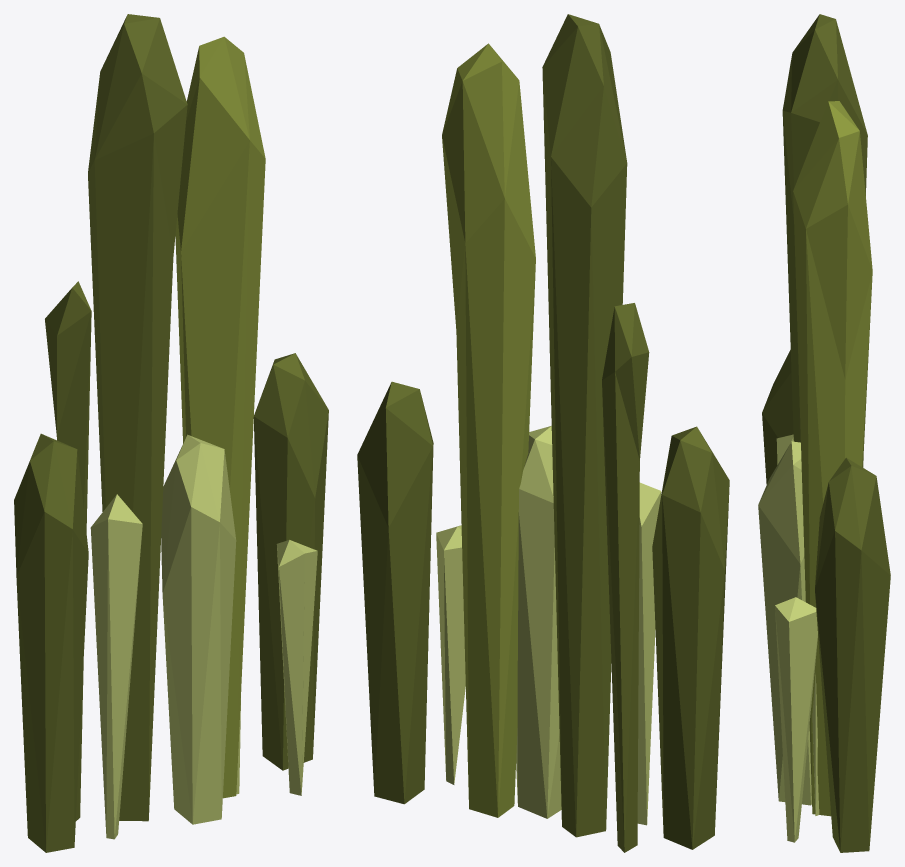
File: ea_swamp_grass_01e_pre__19__lev1.glb
3 renders of one model, left to right at view 1: azimuth 30°, elevation 25°; view 2: azimuth 150°, elevation 25°; view 3: azimuth 270°, elevation 25°, orthographic. The views are drawn at different scales.
Parts seen in each view (by area): view 1: ea_swamp_grass_01e_pre__19__lev1; view 2: ea_swamp_grass_01e_pre__19__lev1; view 3: ea_swamp_grass_01e_pre__19__lev1.
Boxes of the visible parts, x1,y1,x2,y2 form: ea_swamp_grass_01e_pre__19__lev1: (14,14,328,852); ea_swamp_grass_01e_pre__19__lev1: (357,14,729,852); ea_swamp_grass_01e_pre__19__lev1: (758,14,890,852).
Size of the model in its own units: 1.17 by 2.69 by 0.4289.
1 material, 1 textured.
